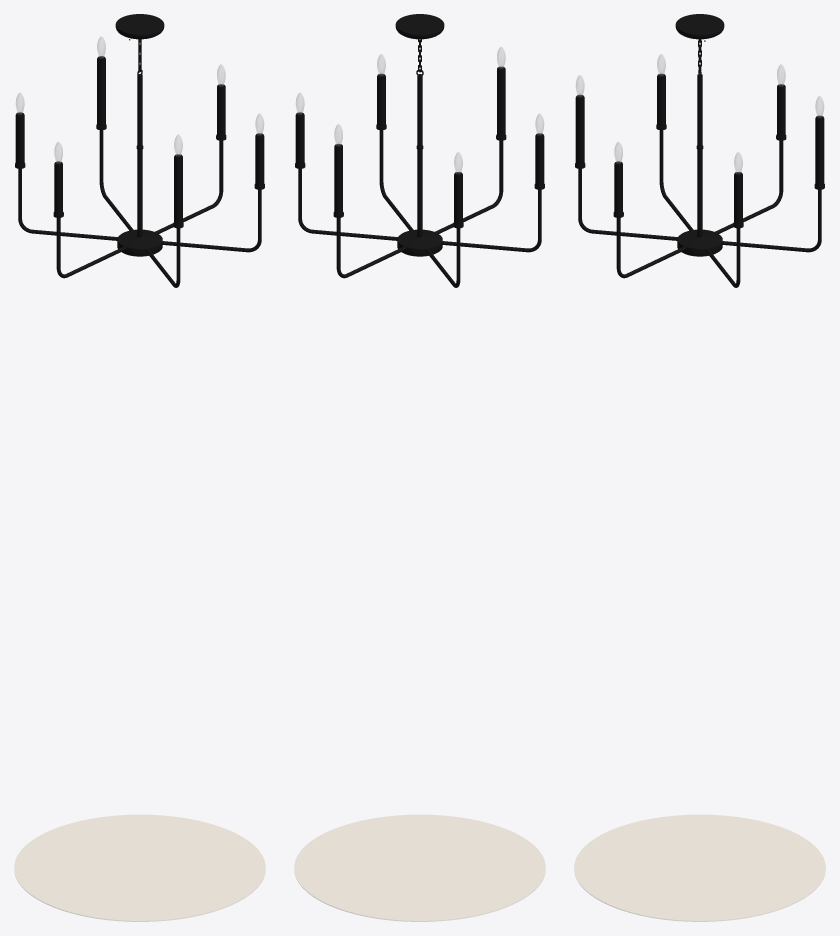
File: ambrose-hang-8ft.glb
3 renders of one model, left to right at view 1: azimuth 30°, elevation 25°; view 2: azimuth 150°, elevation 25°; view 3: azimuth 270°, elevation 25°, orthographic.
Visible parts, largest first — view 1: floor_spot, arms (×4), sleeves (×2), canopy, hub, rod; view 2: floor_spot, arms (×4), sleeves (×2), canopy, hub, rod; view 3: floor_spot, arms (×4), sleeves (×2), canopy, hub, rod.
Boxes of the visible parts, x1=… form: floor_spot: x1=14, y1=815, x2=265, y2=921; arms (×4): x1=18, y1=140, x2=261, y2=278; sleeves (×2): x1=97, y1=58, x2=182, y2=224; canopy: x1=115, y1=14, x2=164, y2=39; hub: x1=117, y1=229, x2=162, y2=256; rod: x1=137, y1=74, x2=142, y2=237; floor_spot: x1=294, y1=815, x2=545, y2=921; arms (×4): x1=298, y1=140, x2=541, y2=278; sleeves (×2): x1=334, y1=68, x2=505, y2=214; canopy: x1=395, y1=14, x2=444, y2=39; hub: x1=397, y1=229, x2=442, y2=256; rod: x1=417, y1=74, x2=422, y2=237; floor_spot: x1=574, y1=815, x2=825, y2=921; arms (×4): x1=578, y1=140, x2=821, y2=278; sleeves (×2): x1=575, y1=96, x2=824, y2=186; canopy: x1=675, y1=14, x2=724, y2=39; hub: x1=677, y1=229, x2=722, y2=256; rod: x1=697, y1=74, x2=702, y2=237.
Size of the model in its own units: 0.6587 by 2.44 by 0.6587.
